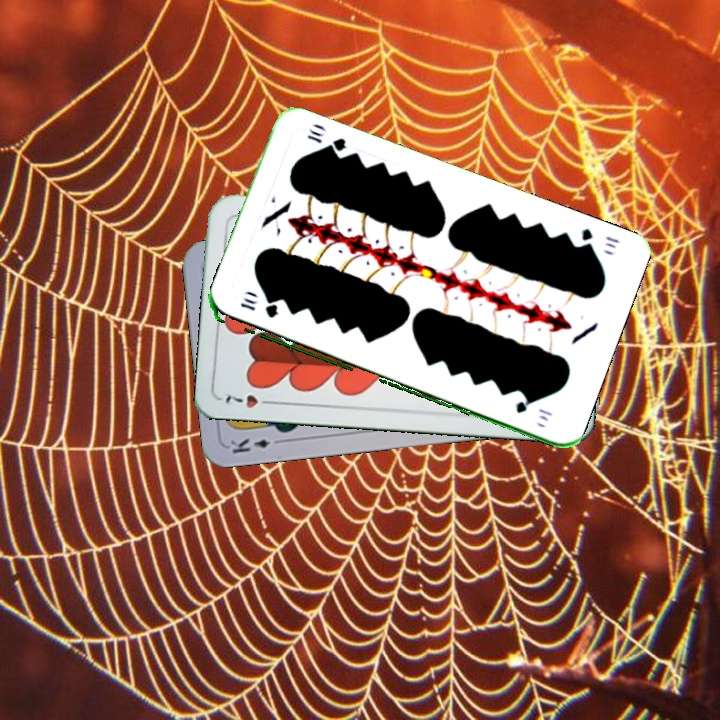EK: (226, 434, 286, 456)
G10: (574, 224, 622, 254), (236, 294, 281, 321)
H7: (221, 390, 278, 411)
